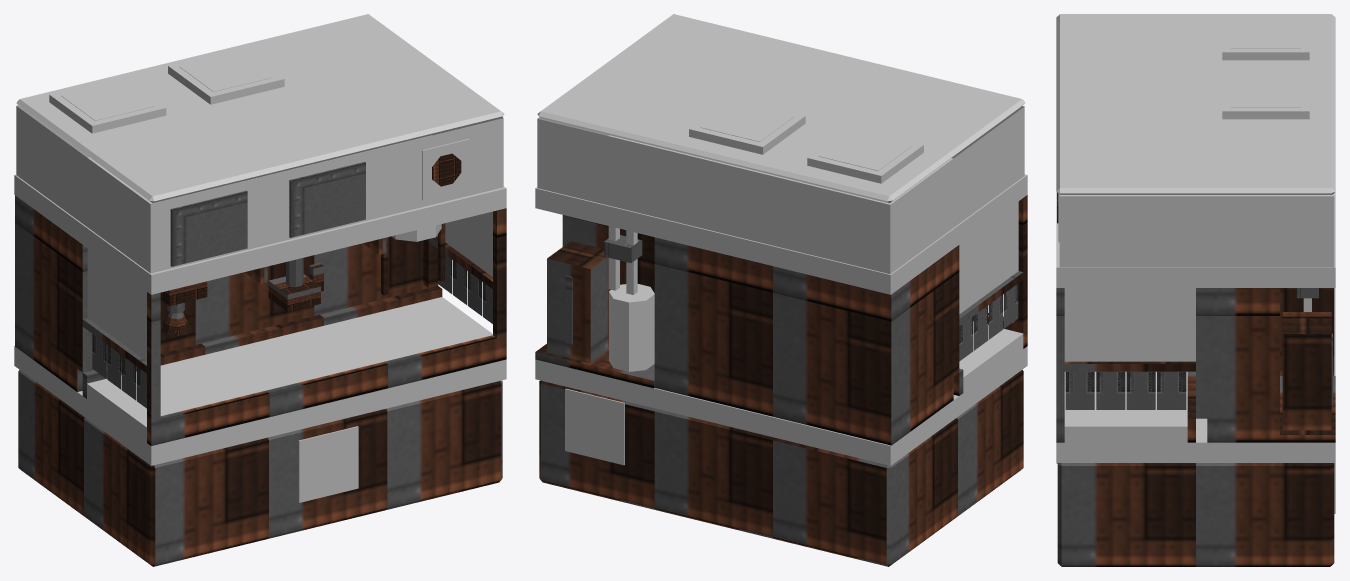
Rendered from ammo_assembler.obj.
3 views of the same model, side by side, from view 1: azimuth 30°, elevation 25°; view 2: azimuth 150°, elevation 25°; view 3: azimuth 270°, elevation 25° (orthographic). The views are drawn at different scales.
Visible parts, largest first — view 1: plinth, roof_cap, roof, belt, back_wall, upper_trim, base_trim, belt_rail_front, recessed_wall, screen, screen.001, gate_grille (+17 smaller); view 2: plinth, back_wall, roof_cap, roof, upper_trim, base_trim, reservoir, gate_grille, power_plate, pump_motor, recessed_wall, port_lip (+9 smaller); view 3: roof_cap, plinth, roof, recessed_wall, gate_grille.001, upper_trim, base_trim, reservoir, belt, intake, intake.001, port_lip (+11 smaller).
Part boxes in pixels (x1,y1,x2,y2): plinth: (18, 370, 502, 566); roof_cap: (16, 14, 504, 203); roof: (16, 105, 503, 273); belt: (87, 297, 492, 442); back_wall: (15, 195, 314, 391); upper_trim: (14, 135, 506, 294); base_trim: (14, 346, 506, 465); belt_rail_front: (147, 335, 506, 445); recessed_wall: (314, 236, 428, 315); screen: (170, 190, 247, 266); screen.001: (289, 162, 365, 237); gate_grille: (87, 249, 146, 361); plinth: (539, 370, 1023, 566); back_wall: (654, 237, 953, 445); roof_cap: (537, 14, 1025, 203); roof: (537, 106, 1024, 273); upper_trim: (535, 135, 1027, 294); base_trim: (535, 346, 1027, 465); reservoir: (547, 241, 610, 363); gate_grille: (959, 201, 1018, 313); power_plate: (565, 388, 624, 465); pump_motor: (609, 284, 654, 371); recessed_wall: (562, 215, 654, 292); port_lip: (807, 126, 923, 183); roof_cap: (1056, 14, 1335, 194); plinth: (1057, 463, 1334, 566); roof: (1059, 196, 1334, 267); recessed_wall: (1207, 288, 1279, 442); gate_grille.001: (1064, 288, 1195, 361); upper_trim: (1056, 192, 1335, 287); base_trim: (1056, 288, 1335, 462); reservoir: (1282, 312, 1331, 430); belt: (1064, 371, 1187, 442); intake: (1231, 18, 1300, 48); intake.001: (1231, 78, 1300, 107); port_lip: (1222, 15, 1309, 60).
Bounding box in the file's own units: 3 × 3.06 × 2.
